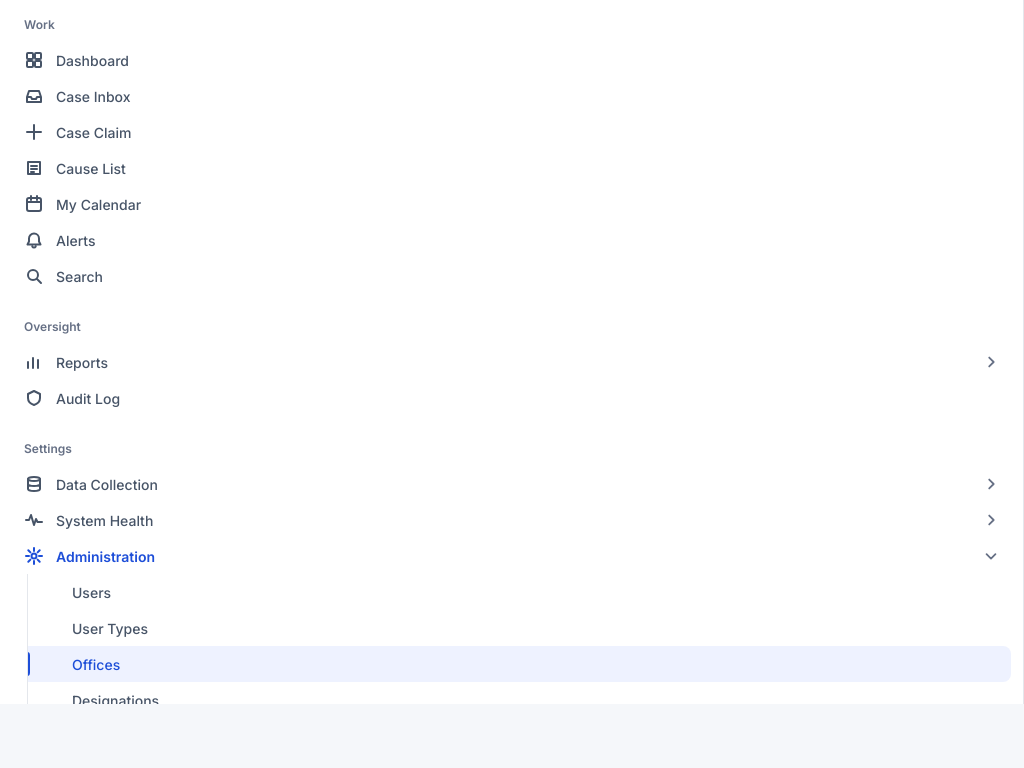
the one-level side menu (design portal-ui-polish-2, decisions 14-19) › already on one of its pages, clicking the closed parent opens it without navigating
Click the list item "Administration". click: [106, 556]
box: [25,547,999,565]
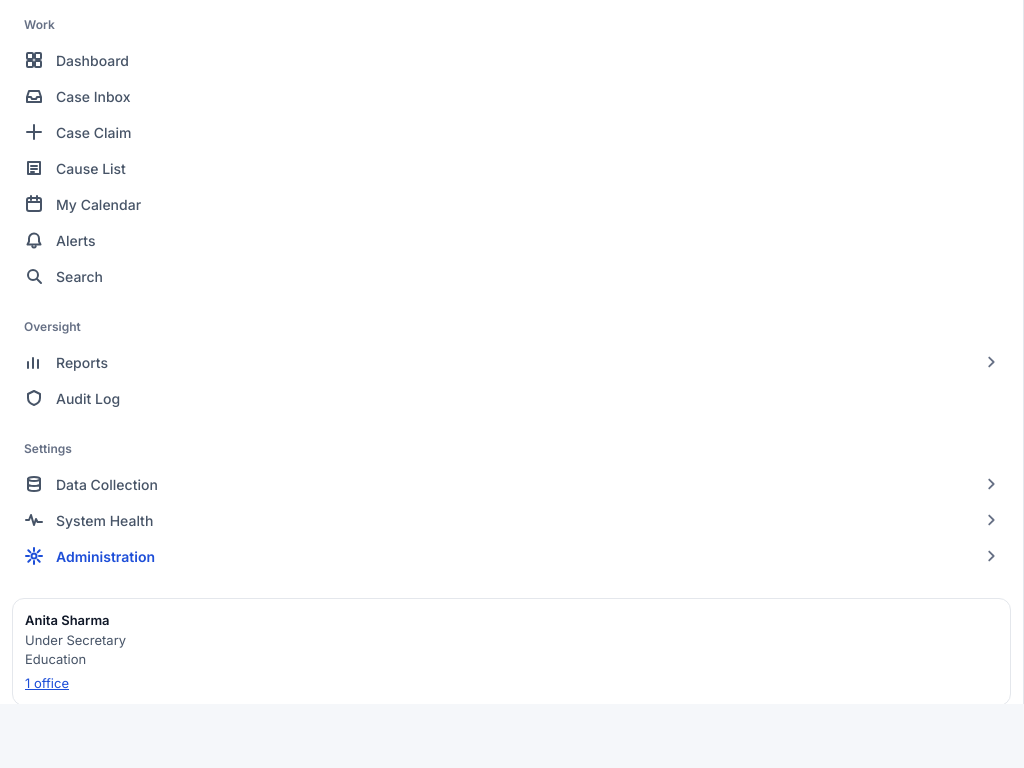
Expected: the list item "Administration" is collapsed
Click the list item "Administration". click: [106, 556]
box: [25,547,999,565]
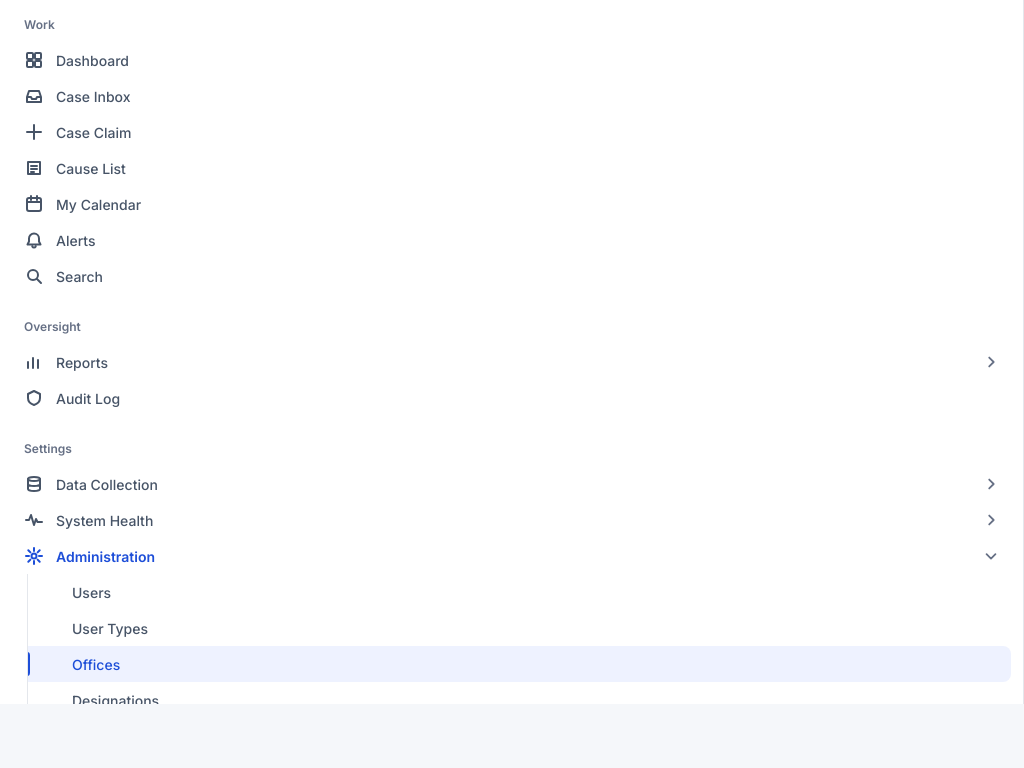
Expected: the list item "Administration" is expanded, [25,547,999,565]
